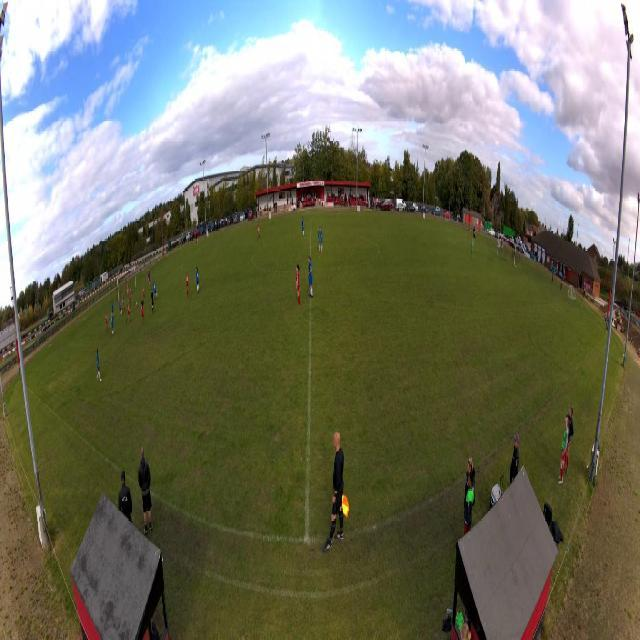ball: (136, 301, 138, 306)
player: (308, 254, 315, 300), (296, 262, 302, 308), (96, 348, 102, 383), (126, 299, 132, 325), (195, 265, 200, 295), (150, 287, 155, 315), (110, 313, 115, 339), (153, 280, 159, 301), (317, 224, 321, 254), (319, 225, 323, 254), (185, 271, 189, 300), (141, 301, 145, 327), (301, 214, 305, 238), (122, 293, 126, 315), (105, 311, 109, 333), (471, 238, 475, 259), (118, 297, 122, 317), (111, 299, 115, 319), (142, 286, 146, 305), (128, 288, 132, 306), (126, 283, 130, 298), (257, 221, 260, 239), (148, 271, 151, 289), (147, 272, 150, 287)
